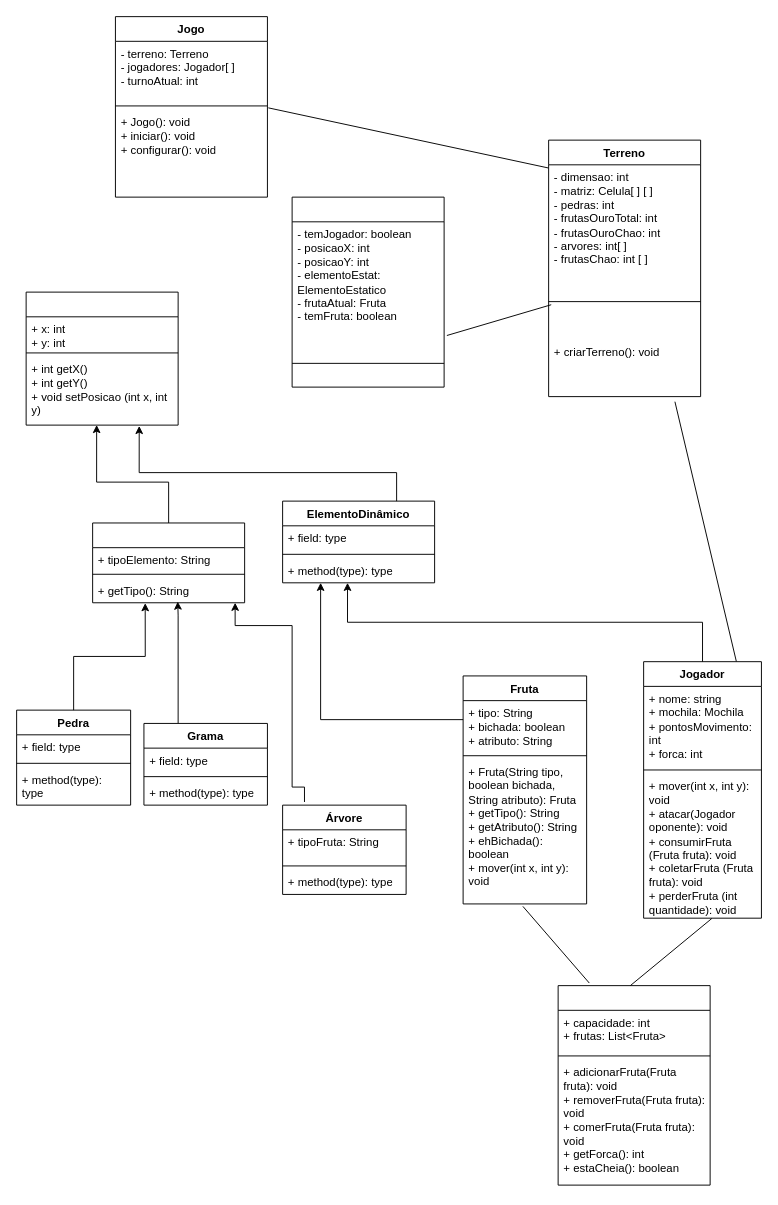
This 778x1205 diagram has some shape labels left out. The box of each missing label's shape, as (x1, y1, x2, y2) in pixels:
Célula: (291, 196, 444, 387)
Elemento: (25, 291, 178, 425)
ElementoEstático: (92, 522, 245, 603)
Mochila: (557, 985, 710, 1185)
